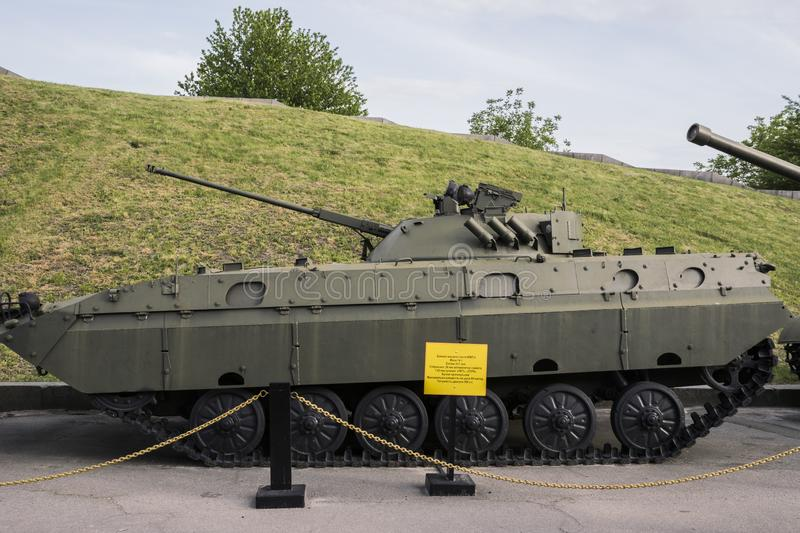bmp1: (15, 165, 774, 458)
